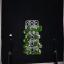leaf: (37, 25, 42, 32), (27, 25, 31, 31), (32, 28, 36, 34), (34, 49, 38, 55), (28, 49, 32, 55), (27, 33, 31, 39), (34, 41, 38, 46), (38, 43, 42, 48), (23, 50, 28, 54), (27, 42, 31, 47), (24, 38, 28, 43), (24, 28, 27, 34), (27, 35, 30, 41), (37, 35, 41, 39), (38, 50, 42, 54), (23, 44, 27, 48), (26, 42, 30, 46), (34, 35, 37, 39), (38, 49, 42, 52), (26, 27, 28, 32), (36, 42, 38, 46), (28, 50, 30, 54)
